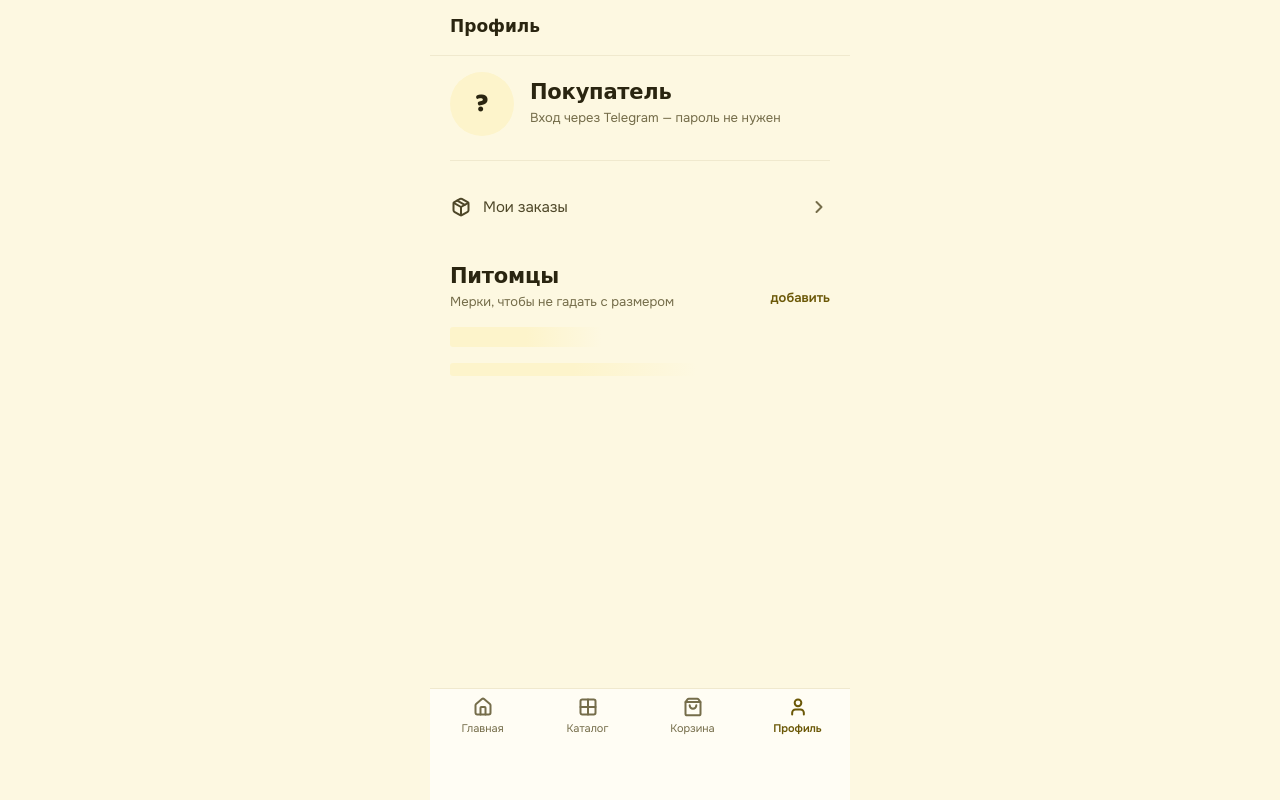
ProfileScreen — новая карточка › не даёт сохранить без клички
Click the button "добавить".
click(800, 298)  # box [771,284,830,311]
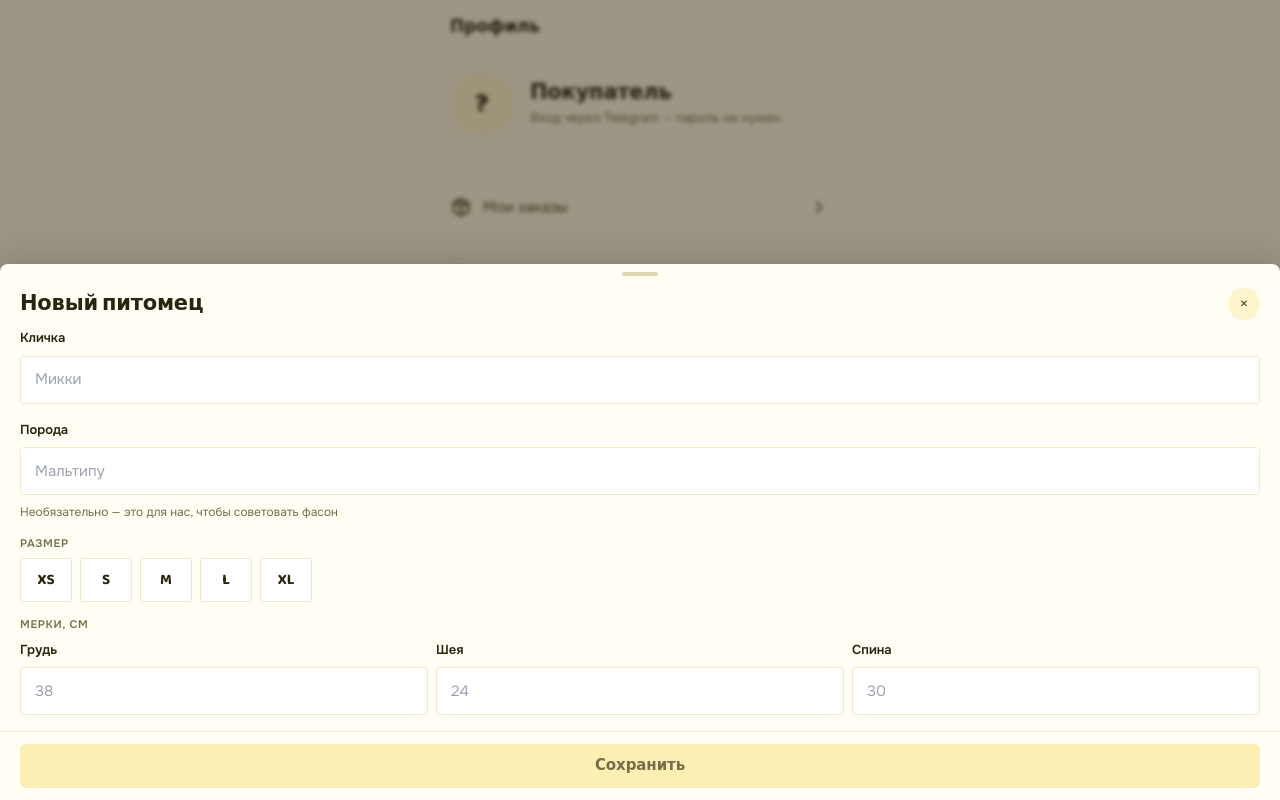
Expected: the button "Сохранить" is disabled, [20,744,1260,788]
